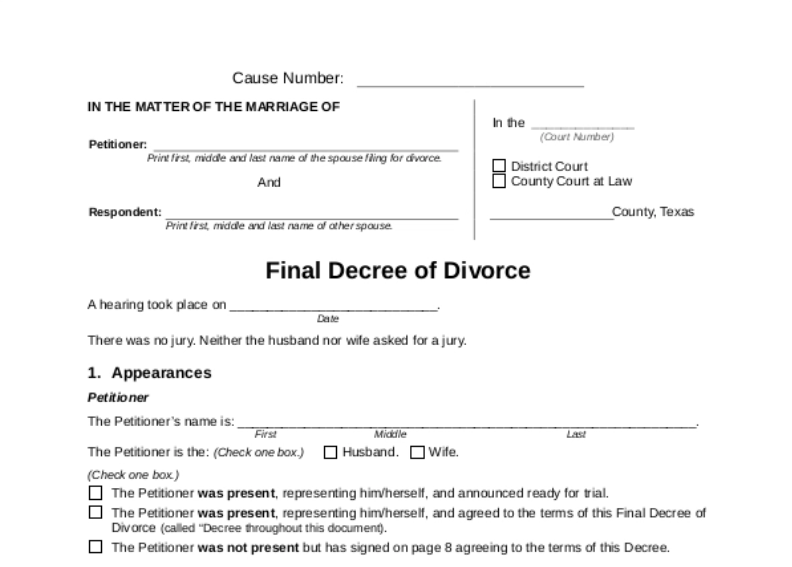checkbox: (322, 442, 339, 461), (409, 442, 426, 461), (88, 483, 103, 504), (88, 502, 103, 523), (88, 536, 103, 557), (491, 174, 509, 191), (492, 157, 508, 175)
textline: (235, 412, 701, 431), (151, 135, 462, 154), (163, 206, 462, 222), (354, 71, 587, 89), (227, 297, 440, 313), (488, 206, 615, 222), (528, 117, 636, 131)
